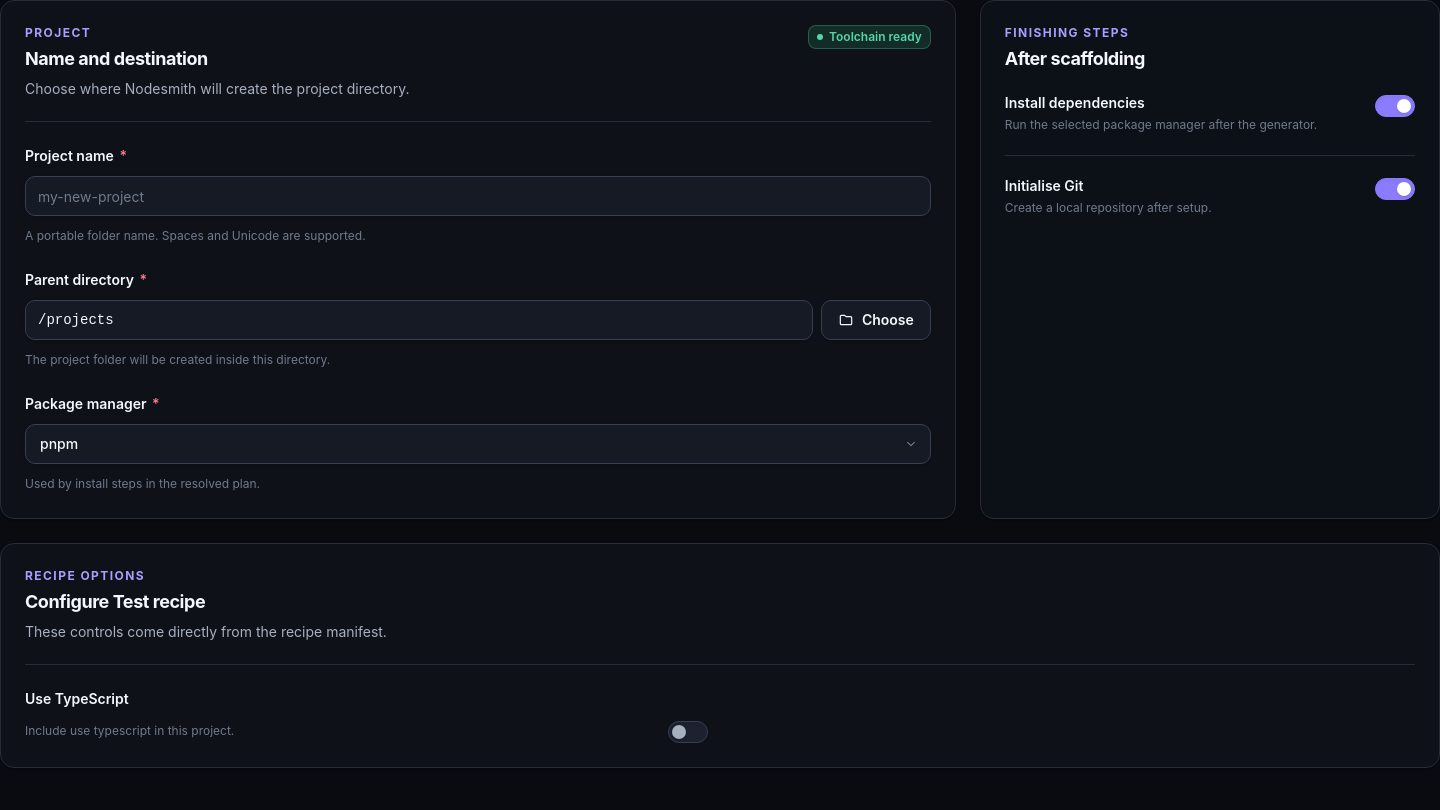
Scenario: DynamicRecipeForm › reactively reveals a conditional required manifest field
Click the switch labelled "Include use typescript in this project.": (130, 730) [25,719,708,743]
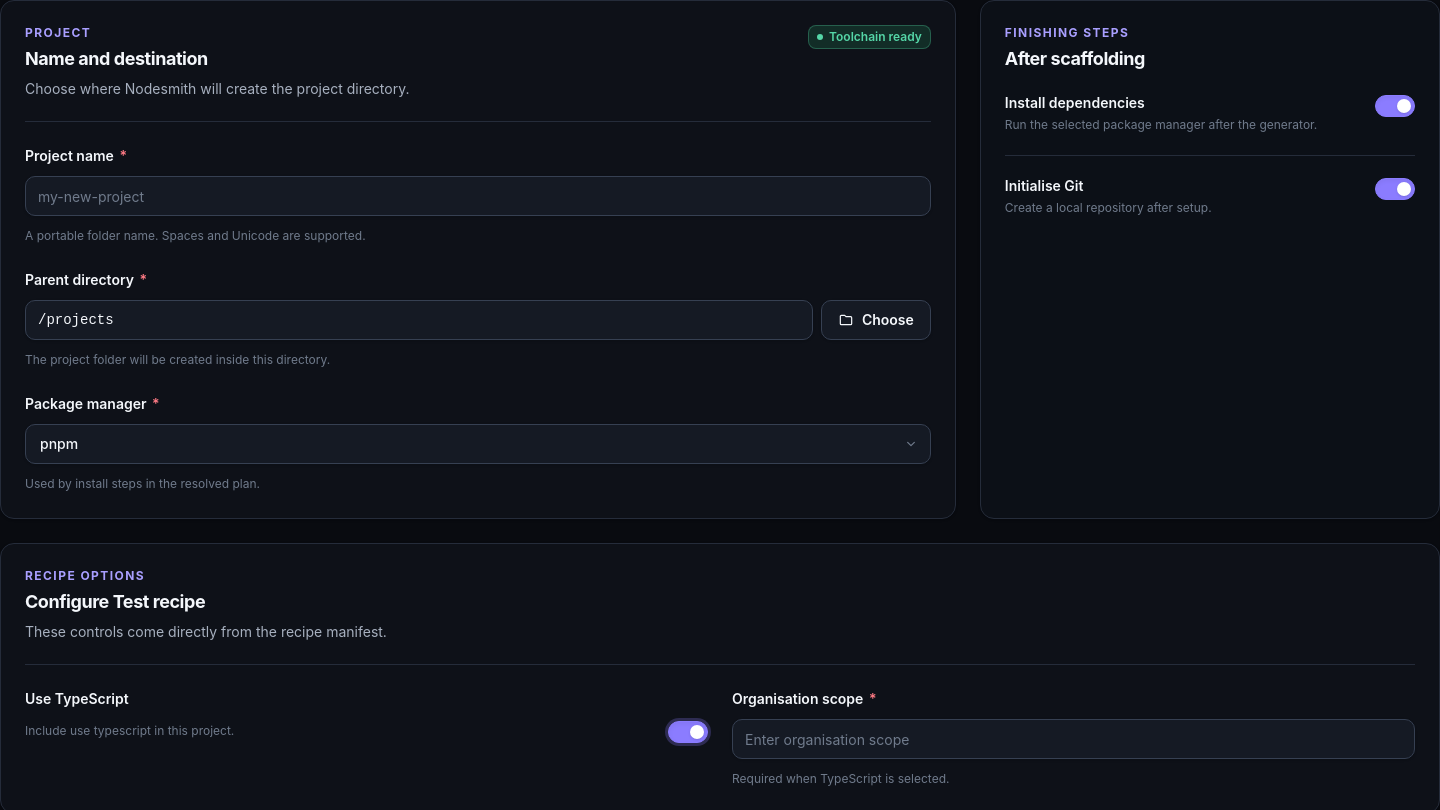
Expected: the field labelled "Organisation scope *" is shown, [733,720,1414,758]
